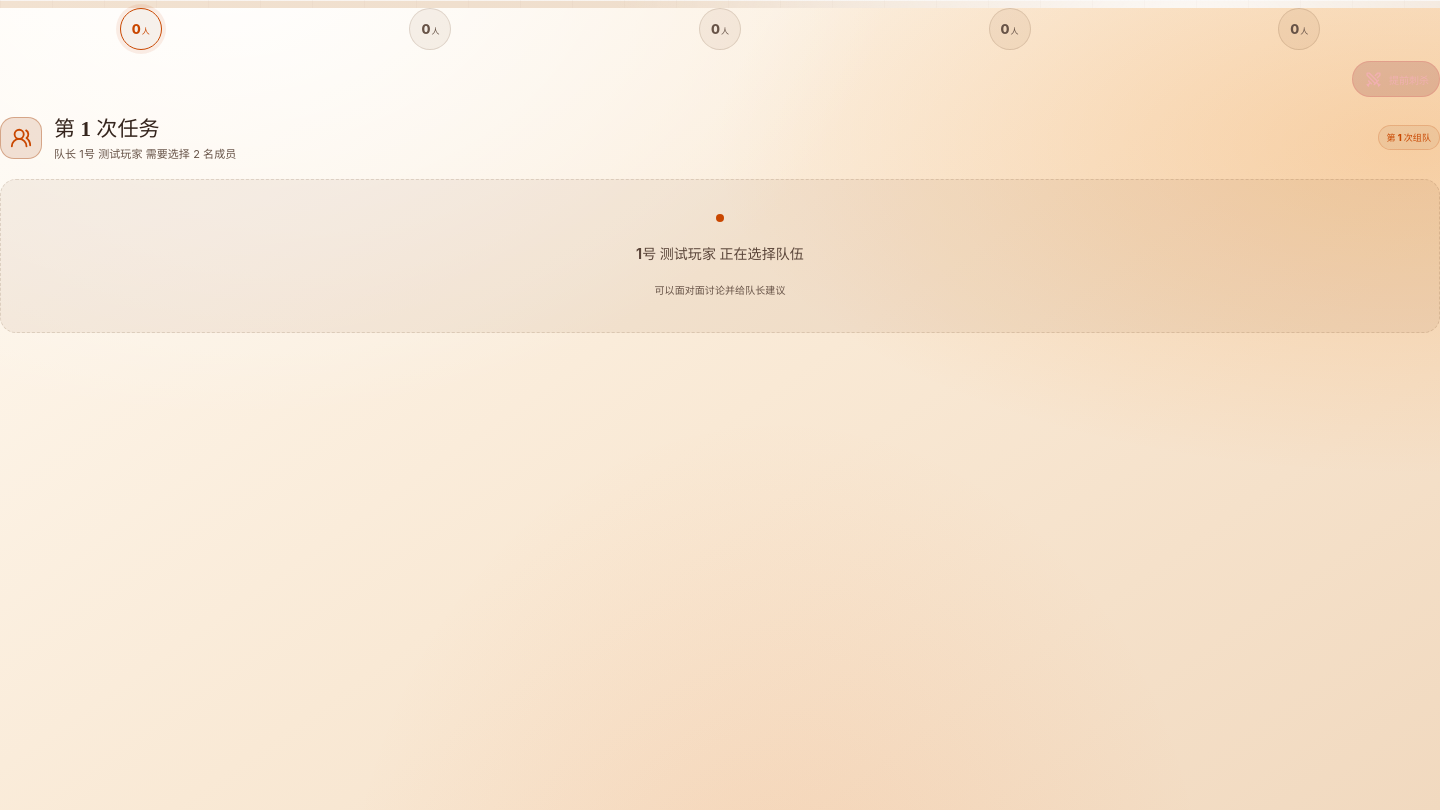
Test case: AvalonTable role reveal › shows the irreversible early assassination confirmation to the assassin
This screenshot has width=1440, height=810.
Click the button with class "danger-tool": x=1396, y=79 [1352,61,1439,97]
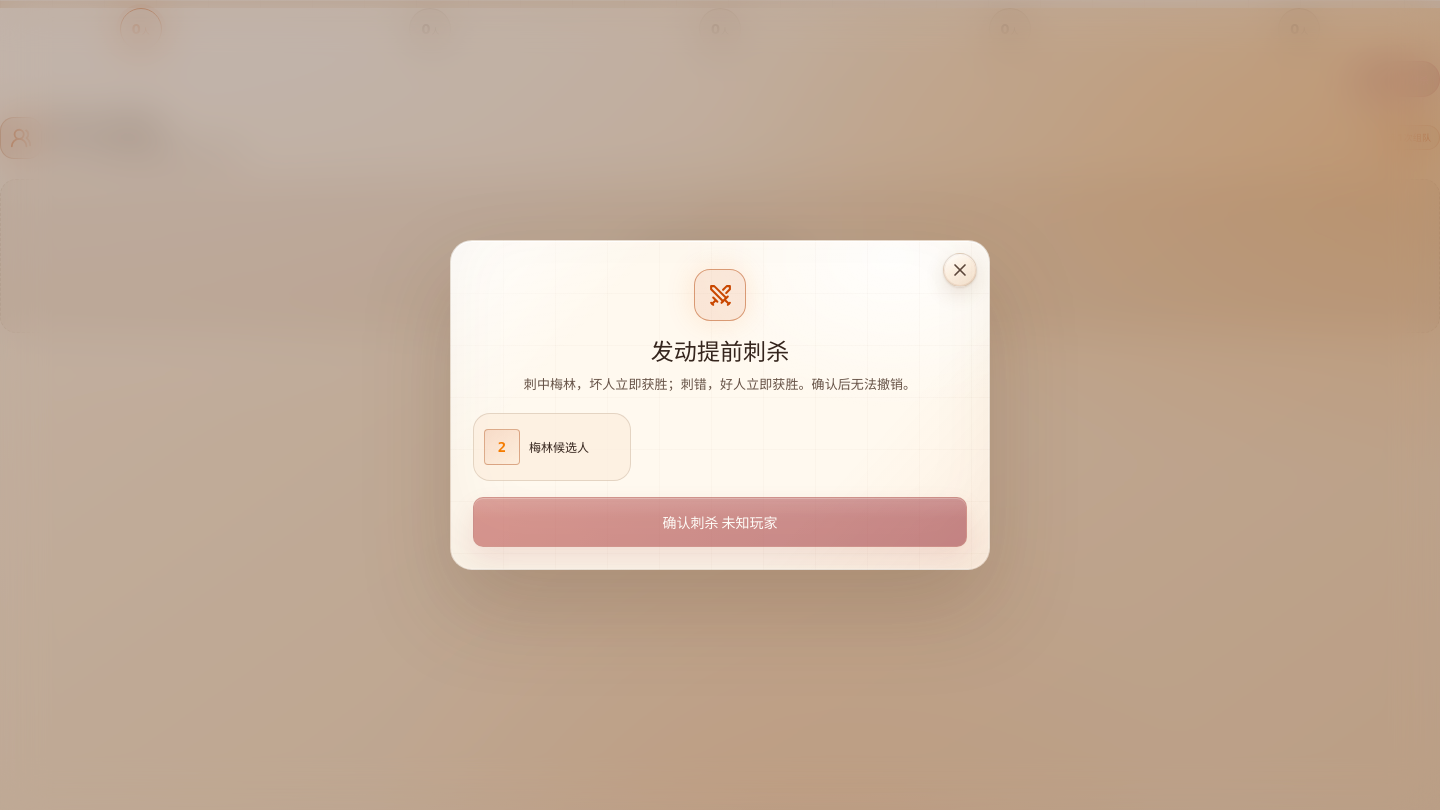
Check: the dialog with class "early-assassination-modal" shows "刺中梅林，坏人立即获胜", box [524,376,916,392]
Check: the dialog with class "early-assassination-modal" shows "刺错，好人立即获胜", box [524,376,916,392]
Check: the dialog with class "early-assassination-modal" shows "梅林候选人"
Click the button "2 梅林候选人": x=552, y=447 [473,413,631,481]
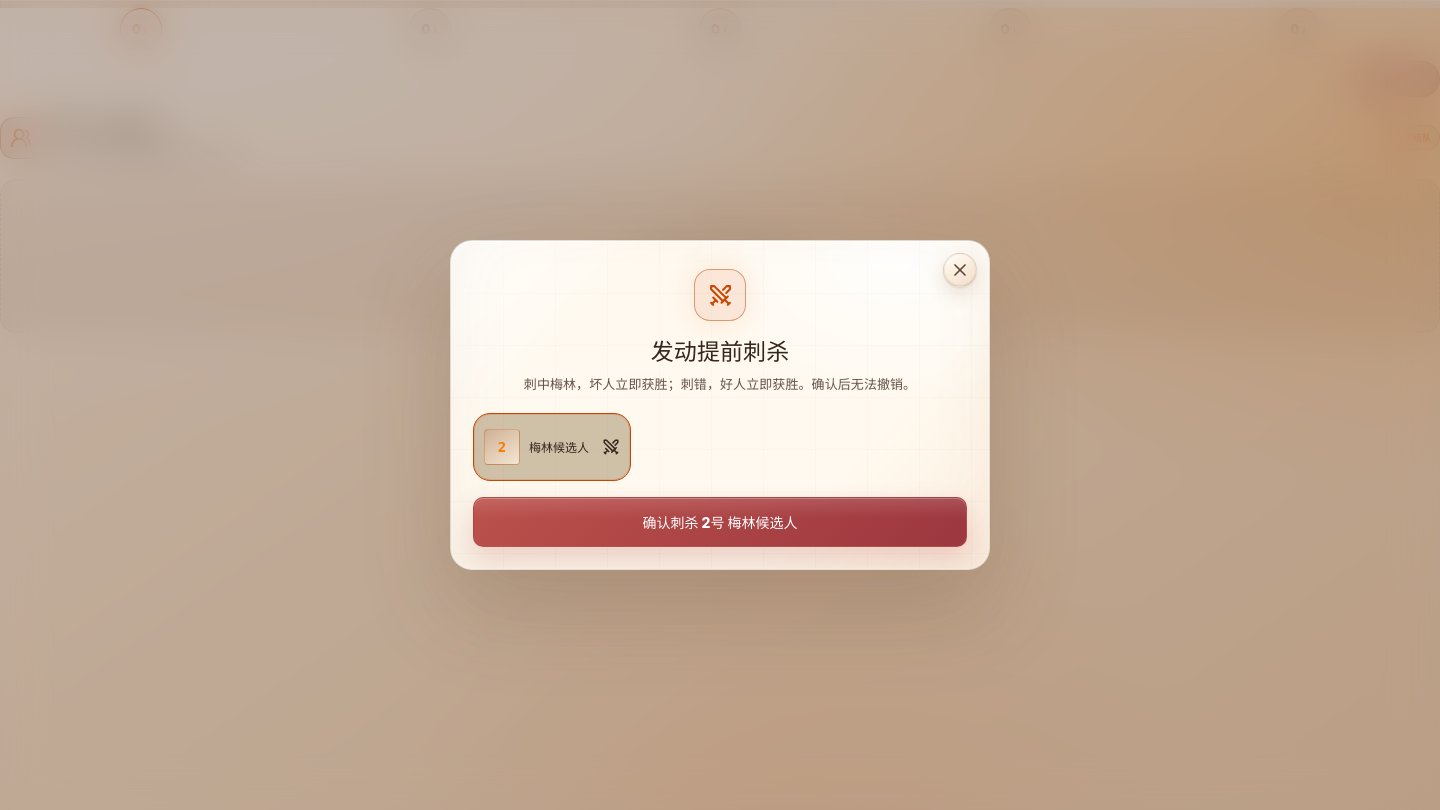
Check: the button with class "ui-button--danger" is enabled, box [473,497,967,547]
Check: the button with class "ui-button--danger" shows "2号 梅林候选人", box [473,497,967,547]
